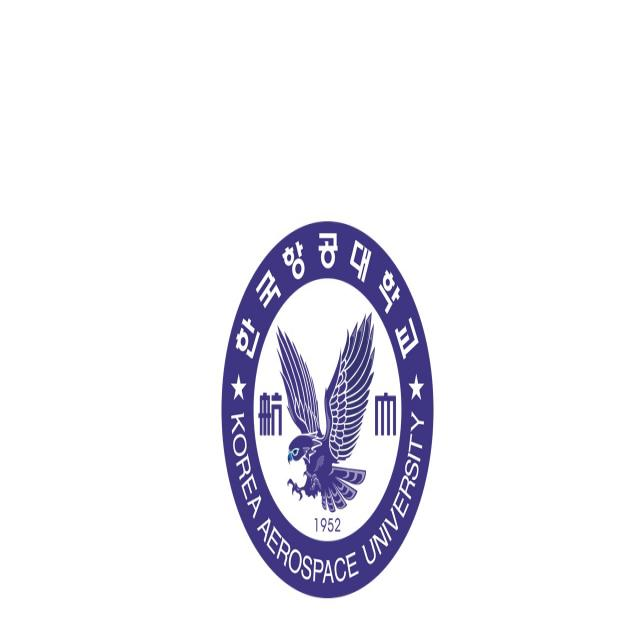KAU_Marker: (222, 219, 434, 596)
